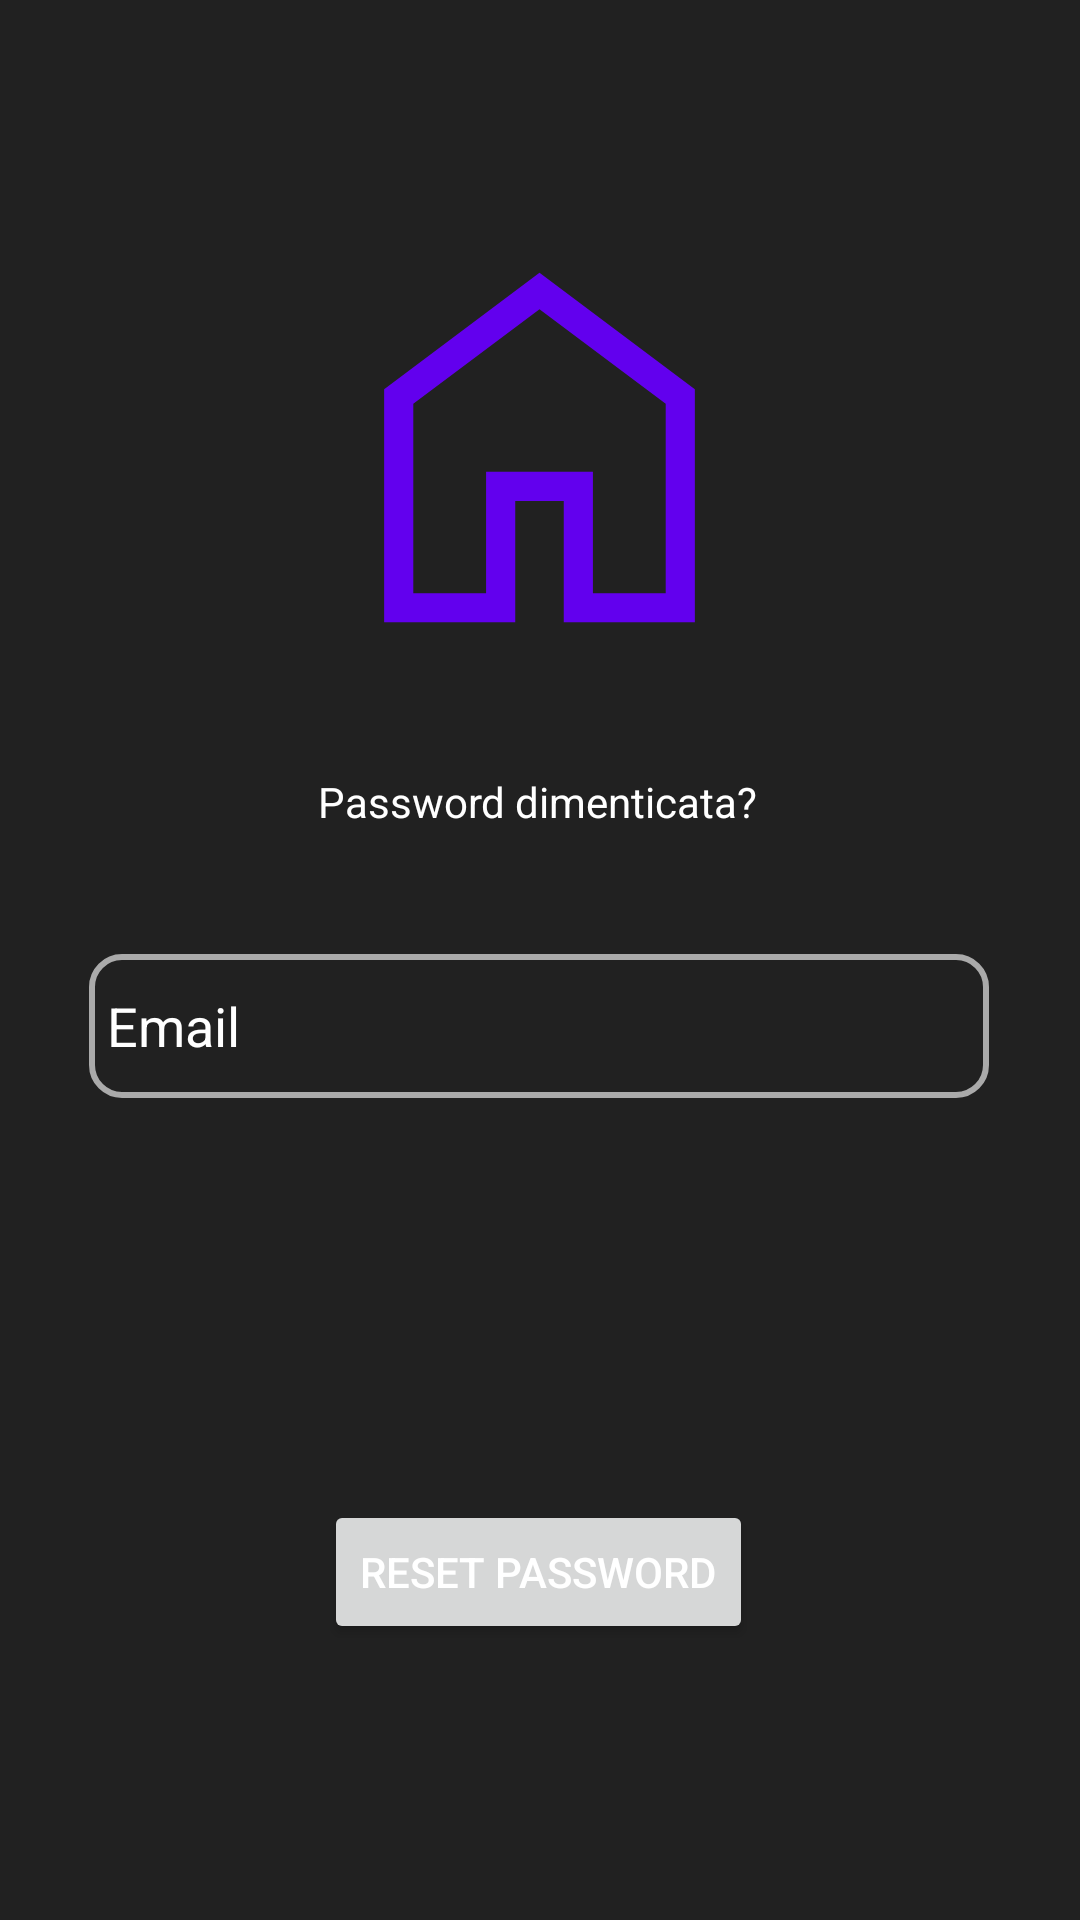

Icons on this 1080 × 1920 Android screen, each with its box as box=[x1, y1, x2, y2]:
A purple house: box=[384, 273, 695, 623]
